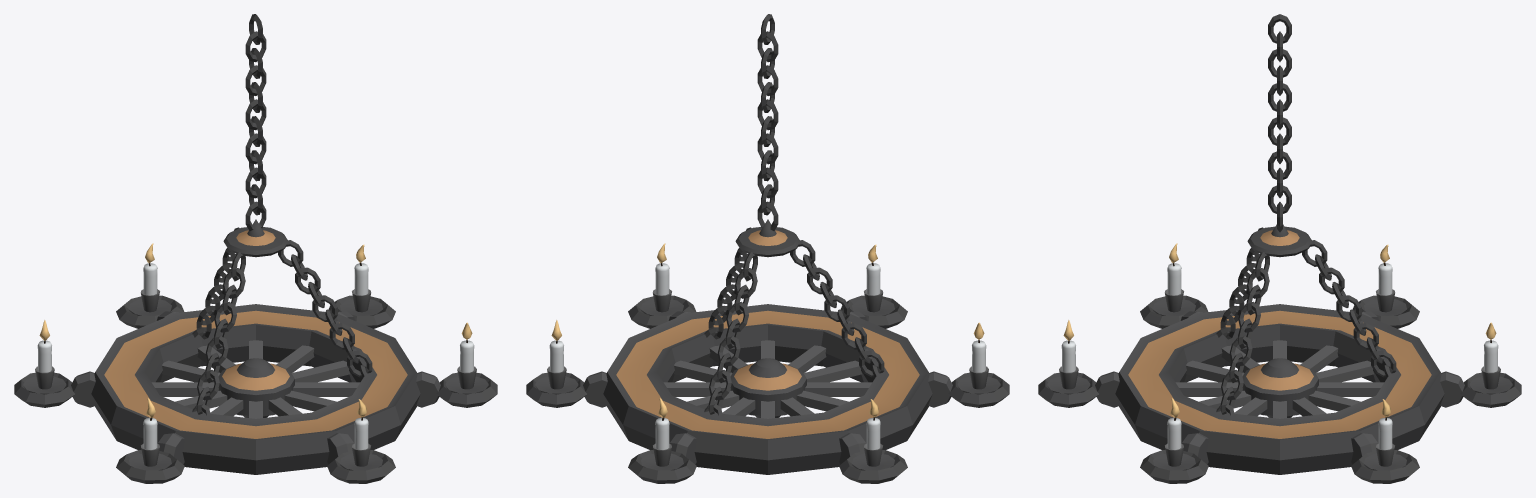
The model's file is CandleChandelier_C.fbx.
3 views of the same model, side by side, from view 1: azimuth 30°, elevation 25°; view 2: azimuth 150°, elevation 25°; view 3: azimuth 270°, elevation 25° (orthographic).
Parts seen in each view (by area): view 1: CandleChandelier_C; view 2: CandleChandelier_C; view 3: CandleChandelier_C.
Part boxes in pixels (x1=…): CandleChandelier_C: x1=14, y1=14, x2=497, y2=483; CandleChandelier_C: x1=526, y1=14, x2=1009, y2=483; CandleChandelier_C: x1=1038, y1=14, x2=1521, y2=483.
Bounding box in the file's own units: 249 × 260 × 281.
